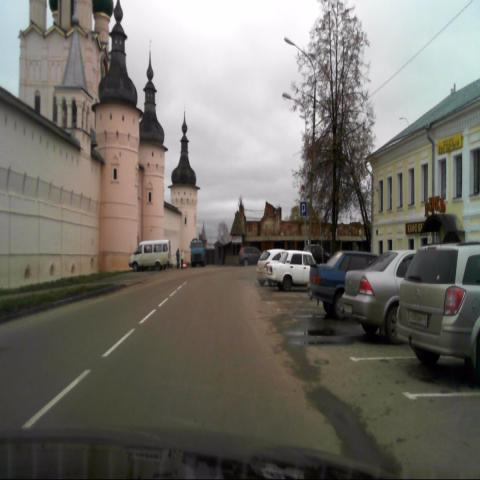6_4: (300, 202, 306, 215)
